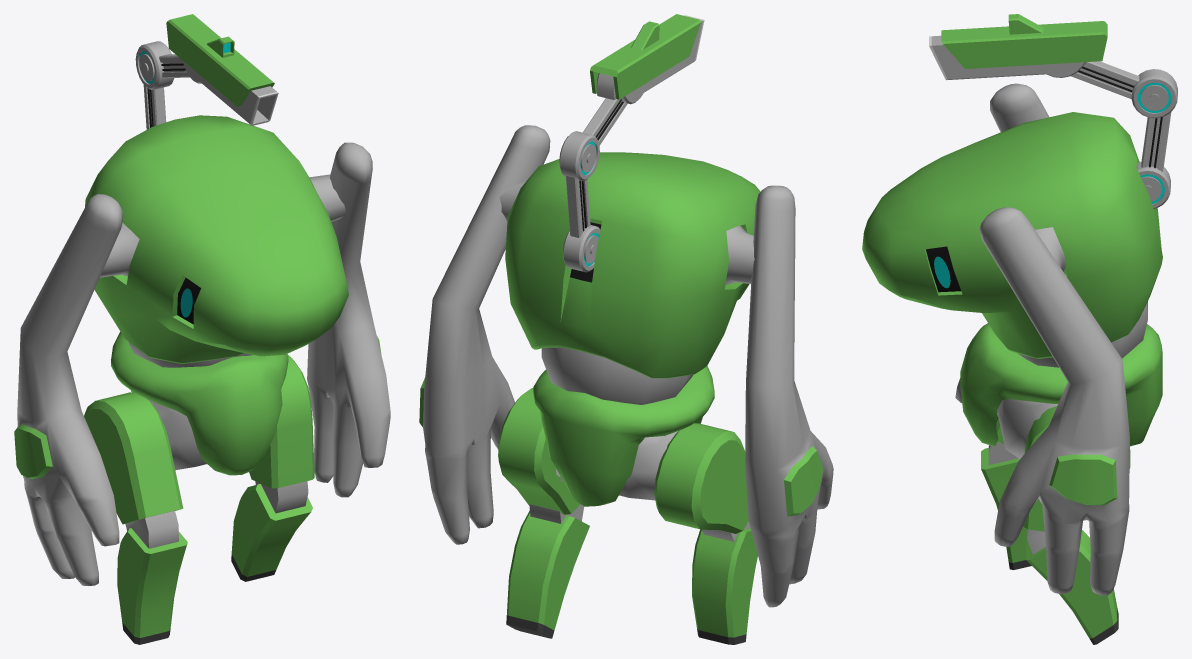
The model's file is shoot_01.fbx.
3 views of the same model, side by side, from view 1: azimuth 30°, elevation 25°; view 2: azimuth 150°, elevation 25°; view 3: azimuth 270°, elevation 25° (orthographic). The views are drawn at different scales.
Parts seen in each view (by area): view 1: L_asi19; view 2: L_asi19; view 3: L_asi19.
Boxes of the visible parts, x1,y1,x2,y2 form: L_asi19: (14,14,390,644); L_asi19: (419,14,833,644); L_asi19: (862,14,1177,644).
Size of the model in its own units: 2.29 by 3.58 by 1.75.
